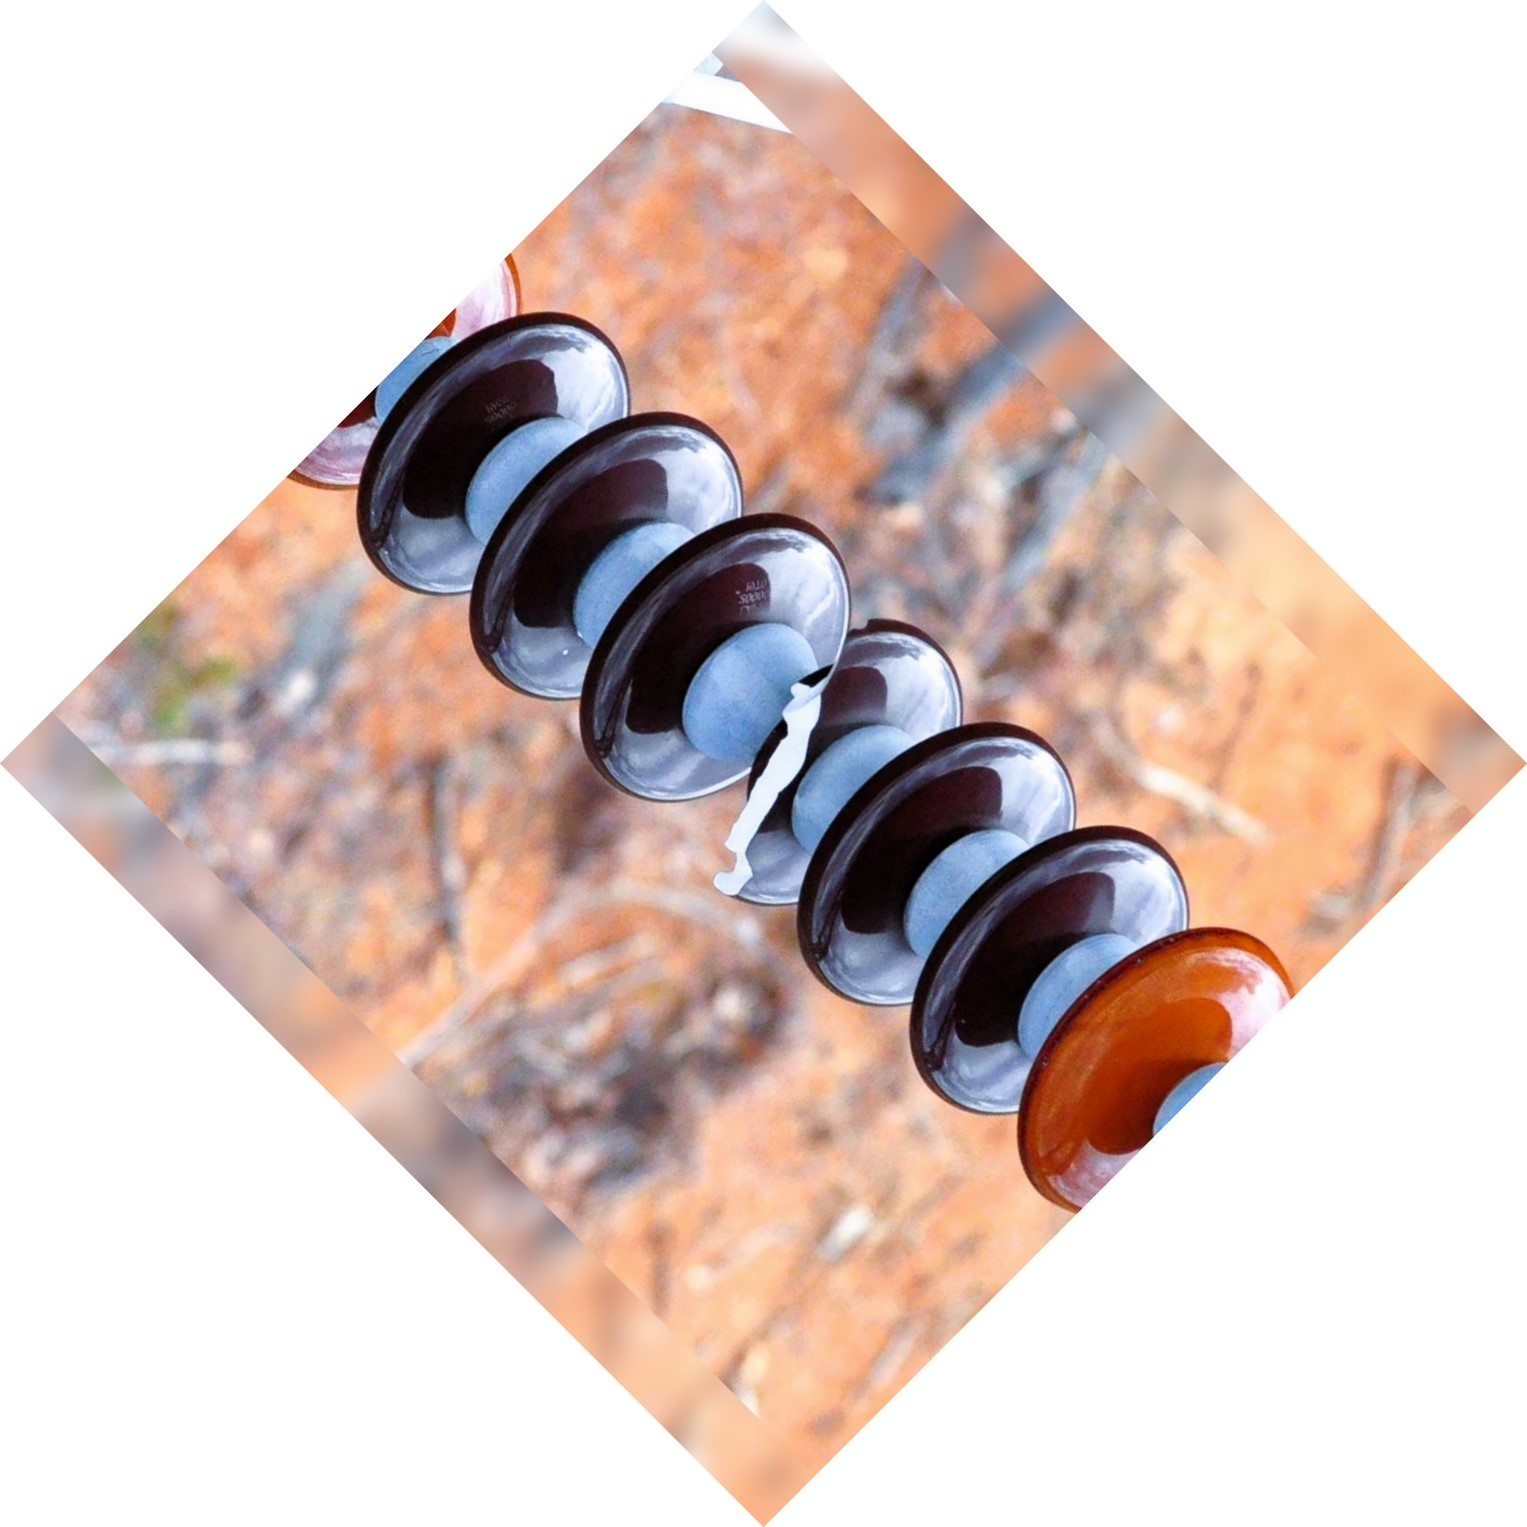insulator breakage: (691, 601, 984, 915)
